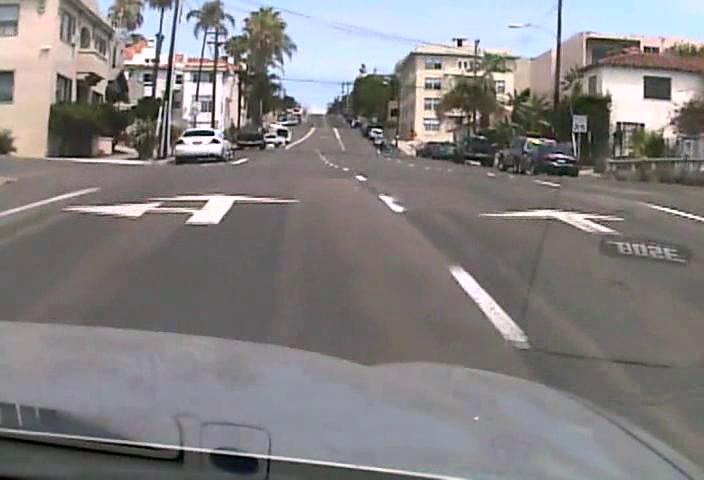speedLimitUrdbl: (571, 113, 588, 134)
